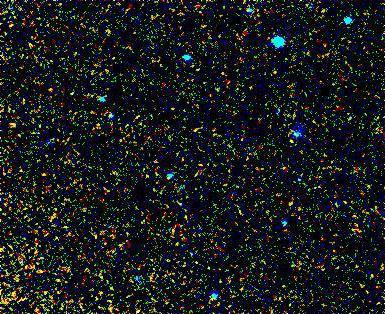star: (0, 109, 28, 139)
